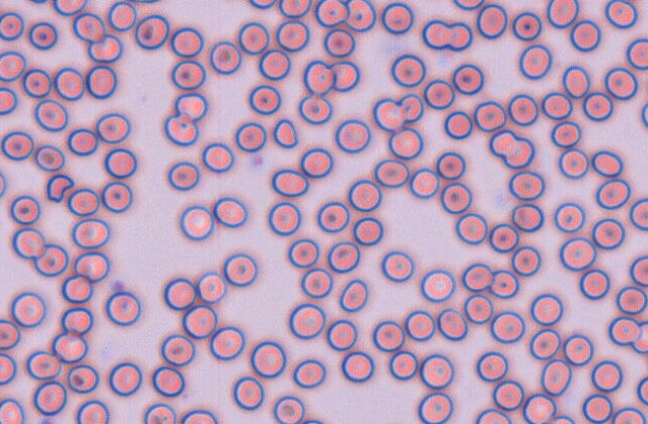PLT: (111, 279, 127, 293), (249, 155, 264, 167)
RBC: (250, 340, 286, 378), (288, 303, 325, 339), (559, 236, 596, 271), (10, 291, 45, 327), (179, 204, 214, 240), (334, 118, 370, 153), (134, 14, 169, 49), (182, 304, 217, 339), (209, 325, 244, 360), (105, 291, 141, 325), (71, 217, 109, 249), (390, 53, 425, 87), (33, 380, 67, 415), (419, 354, 453, 389), (267, 201, 301, 235), (108, 362, 142, 396), (33, 243, 68, 276), (160, 333, 195, 366), (518, 44, 551, 79), (163, 113, 198, 146), (420, 269, 455, 302), (490, 310, 525, 343), (540, 358, 571, 395), (372, 98, 405, 132), (34, 98, 68, 131), (223, 253, 257, 286), (604, 66, 637, 100), (388, 127, 423, 159), (73, 251, 109, 282), (52, 332, 88, 363), (476, 3, 507, 39), (327, 240, 360, 273), (275, 19, 309, 51), (232, 376, 264, 410), (348, 179, 382, 211), (209, 40, 241, 74), (85, 65, 117, 99), (151, 365, 185, 397), (591, 217, 625, 249), (418, 392, 453, 423), (595, 178, 630, 209), (95, 112, 130, 143), (303, 59, 333, 95), (508, 170, 544, 200), (271, 168, 308, 197), (12, 227, 45, 259), (163, 278, 196, 310), (473, 100, 506, 132), (530, 293, 563, 325), (340, 351, 374, 382), (316, 201, 350, 232), (213, 196, 247, 227), (87, 33, 122, 63), (26, 350, 61, 380), (170, 60, 205, 90), (373, 158, 409, 187), (569, 19, 601, 51), (381, 2, 413, 34), (381, 250, 413, 282), (455, 212, 487, 244), (258, 48, 290, 80), (590, 360, 622, 392), (372, 320, 404, 352), (300, 147, 333, 178), (238, 21, 269, 54), (170, 26, 203, 57), (53, 67, 84, 100), (104, 147, 137, 178), (248, 84, 281, 115), (522, 393, 556, 423), (298, 94, 332, 124), (503, 136, 534, 168), (300, 267, 332, 298), (101, 181, 132, 213), (440, 182, 471, 214), (529, 328, 560, 360), (234, 121, 266, 152), (507, 93, 538, 125), (452, 63, 483, 95), (72, 12, 105, 42), (563, 333, 593, 366), (201, 142, 234, 172), (339, 278, 368, 312), (345, 0, 376, 31), (579, 268, 610, 299), (492, 380, 524, 410), (196, 271, 226, 303), (476, 351, 508, 381), (437, 308, 467, 340), (326, 319, 356, 351), (174, 92, 207, 121), (66, 364, 99, 393), (0, 131, 33, 160), (292, 359, 325, 388), (511, 203, 544, 232), (558, 148, 589, 178), (423, 79, 454, 109), (582, 91, 613, 121), (554, 202, 585, 232), (405, 310, 435, 341), (608, 316, 640, 345), (67, 187, 99, 216), (323, 28, 355, 57), (461, 262, 493, 291), (287, 238, 319, 267), (167, 161, 199, 190), (562, 65, 590, 98), (604, 0, 637, 28), (314, 0, 348, 27), (463, 293, 493, 323), (582, 393, 612, 423), (409, 168, 439, 198), (388, 350, 418, 380), (352, 216, 383, 245), (61, 274, 92, 303), (511, 245, 540, 276), (330, 60, 359, 91), (616, 285, 647, 314), (541, 91, 572, 120), (61, 307, 93, 335), (546, 0, 578, 28), (422, 19, 451, 49), (22, 68, 51, 98), (489, 269, 519, 298), (10, 195, 40, 224), (107, 1, 136, 31), (67, 127, 98, 155), (550, 120, 581, 148), (273, 395, 304, 423), (591, 150, 623, 177), (443, 110, 472, 139), (489, 223, 518, 252), (512, 11, 541, 40), (436, 151, 465, 180), (34, 144, 65, 171), (28, 21, 57, 49), (0, 50, 26, 81), (76, 399, 109, 423), (397, 93, 423, 122), (447, 21, 472, 50), (0, 11, 24, 40), (626, 38, 647, 70), (143, 403, 176, 423), (0, 319, 20, 349), (0, 398, 24, 423), (611, 406, 646, 423), (629, 197, 647, 230), (278, 0, 311, 18), (52, 0, 87, 16), (629, 255, 647, 286), (475, 408, 511, 423), (0, 352, 16, 385), (180, 409, 217, 423), (632, 320, 647, 354), (0, 87, 17, 114), (636, 376, 647, 405), (452, 0, 483, 10), (247, 0, 276, 9), (547, 415, 575, 423), (640, 102, 647, 128), (0, 171, 6, 197), (37, 416, 56, 423), (300, 418, 324, 423), (128, 0, 160, 3), (28, 0, 48, 3)
Schistocyte: (47, 175, 75, 202), (273, 120, 299, 148), (490, 130, 515, 156)
